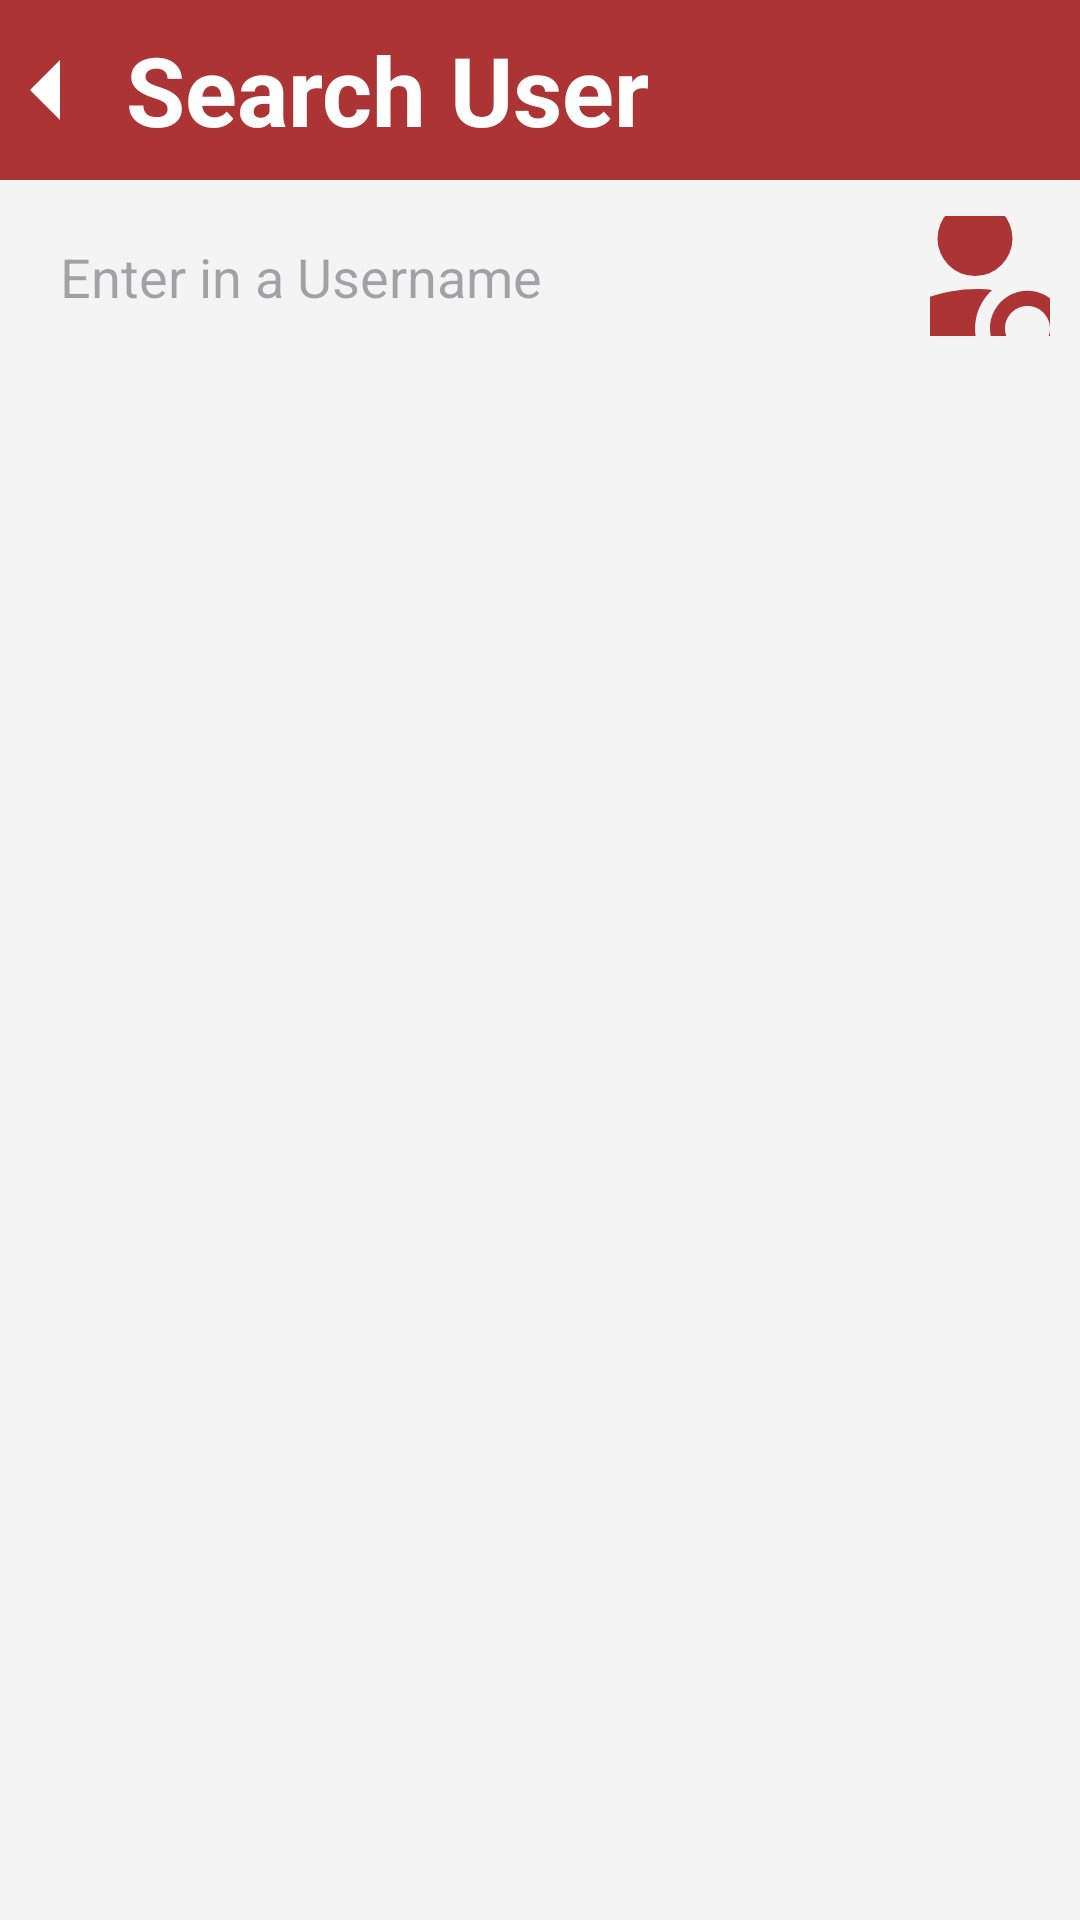

Screen size 1080px x 1920px. Icon name, then its box in pixels as bbox=(x1, y1, x2, y2):
person search: bbox=(930, 216, 1050, 336)
